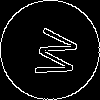W: (25, 25, 80, 81)
